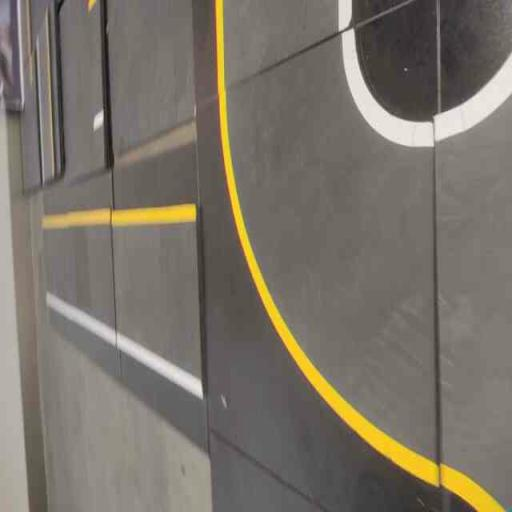right: (207, 3, 439, 509)
